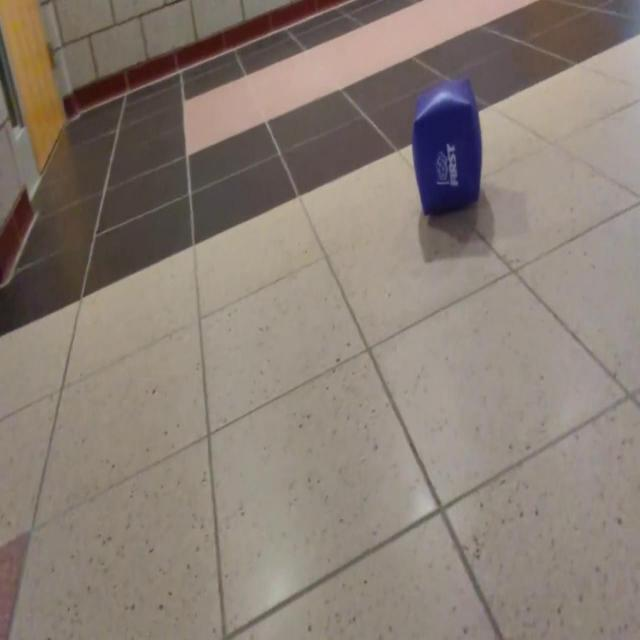frc_cube: (411, 81, 482, 220)
